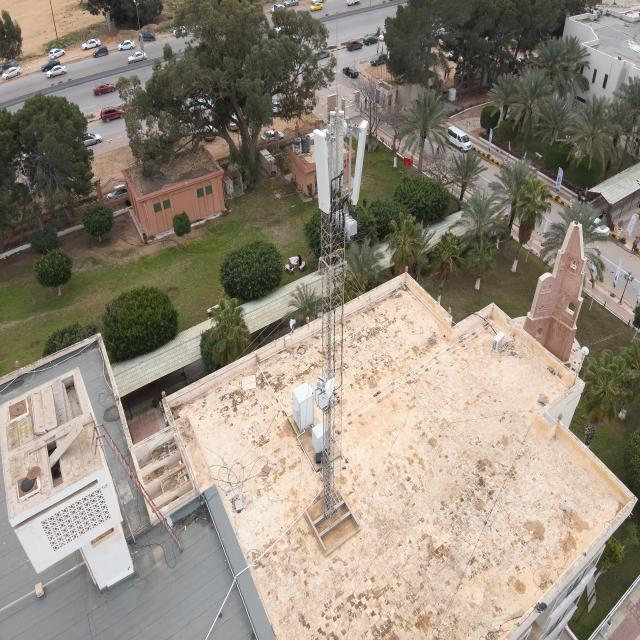antenna: (313, 128, 332, 214), (350, 118, 369, 204), (329, 109, 345, 193)
lighnig-rad: (336, 19, 338, 110)
microware-dish: (316, 376, 335, 400)
power-box: (312, 383, 329, 409)
radio-unit: (335, 208, 357, 238)
